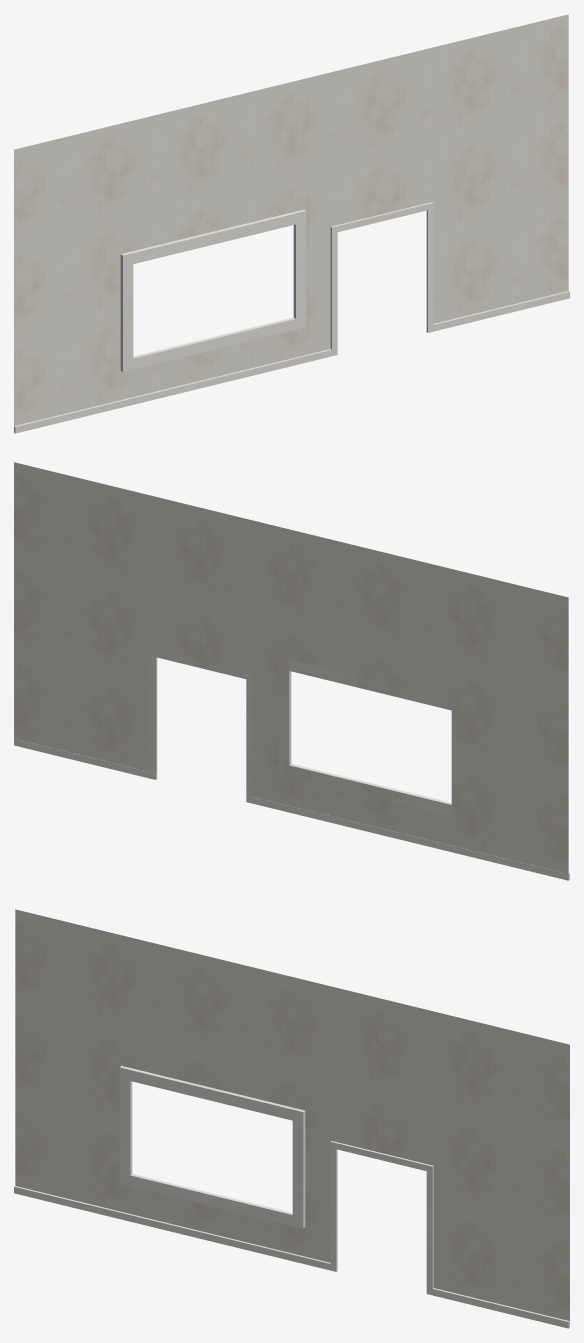
3 renders of one model, top to bottom at view 1: azimuth 30°, elevation 25°; view 2: azimuth 150°, elevation 25°; view 3: azimuth 330°, elevation 25°, orthographic.
Parts seen in each view (by area): view 1: jx_wm_12_4e76b826; view 2: jx_wm_12_4e76b826; view 3: jx_wm_12_4e76b826.
Part boxes in pixels (x1,y1,x2,y2): jx_wm_12_4e76b826: (14,14,569,433); jx_wm_12_4e76b826: (14,462,569,880); jx_wm_12_4e76b826: (14,909,569,1328).
Bounding box in the file's own units: 12.3 × 6 × 0.086.
2 materials, 2 textured.
